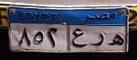2: (46, 26, 59, 48)
5: (31, 29, 44, 47)
8: (17, 26, 31, 48)
ain: (71, 27, 88, 49)
haa: (107, 33, 125, 49)
raa: (88, 30, 105, 49)
